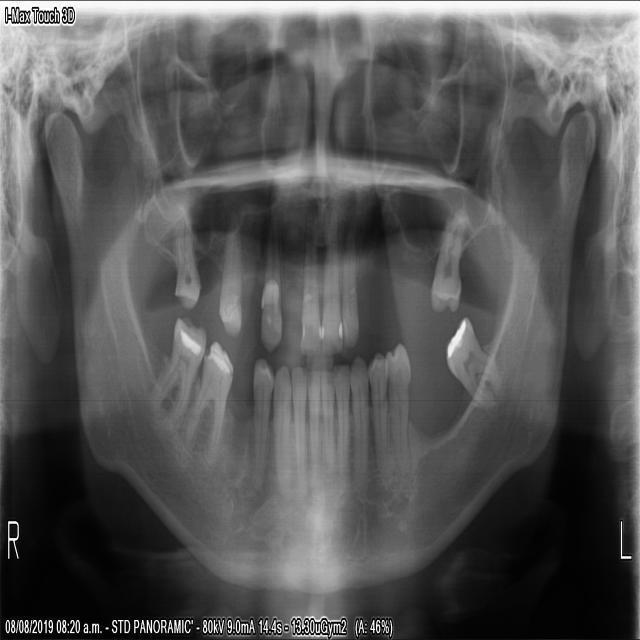LCD: (348, 353, 368, 502)
LID: (331, 359, 349, 506), (318, 365, 334, 480)
LIU: (321, 206, 342, 357), (341, 215, 360, 352)
LMD: (442, 312, 505, 410)
LMU: (428, 197, 471, 316)
LPMD: (366, 344, 394, 490), (384, 338, 412, 476)
RCD: (270, 358, 290, 502)
RCU: (258, 198, 283, 358)
RID: (289, 361, 305, 504), (305, 362, 320, 508)
RIU: (297, 203, 321, 358)
RMD: (143, 313, 205, 436), (180, 336, 235, 468)
RMU: (171, 195, 202, 313)
RPMD: (250, 354, 272, 492)
RPMU: (216, 206, 241, 341)
